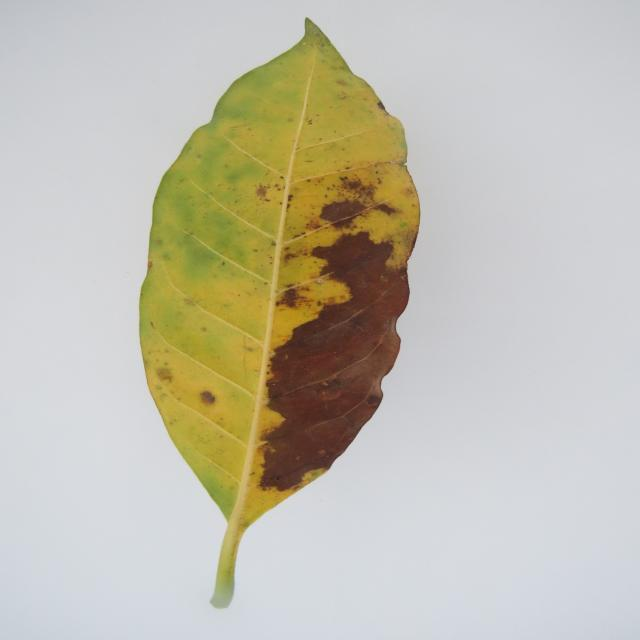DeficienciaNutricional-Potasio: (140, 20, 418, 608)
